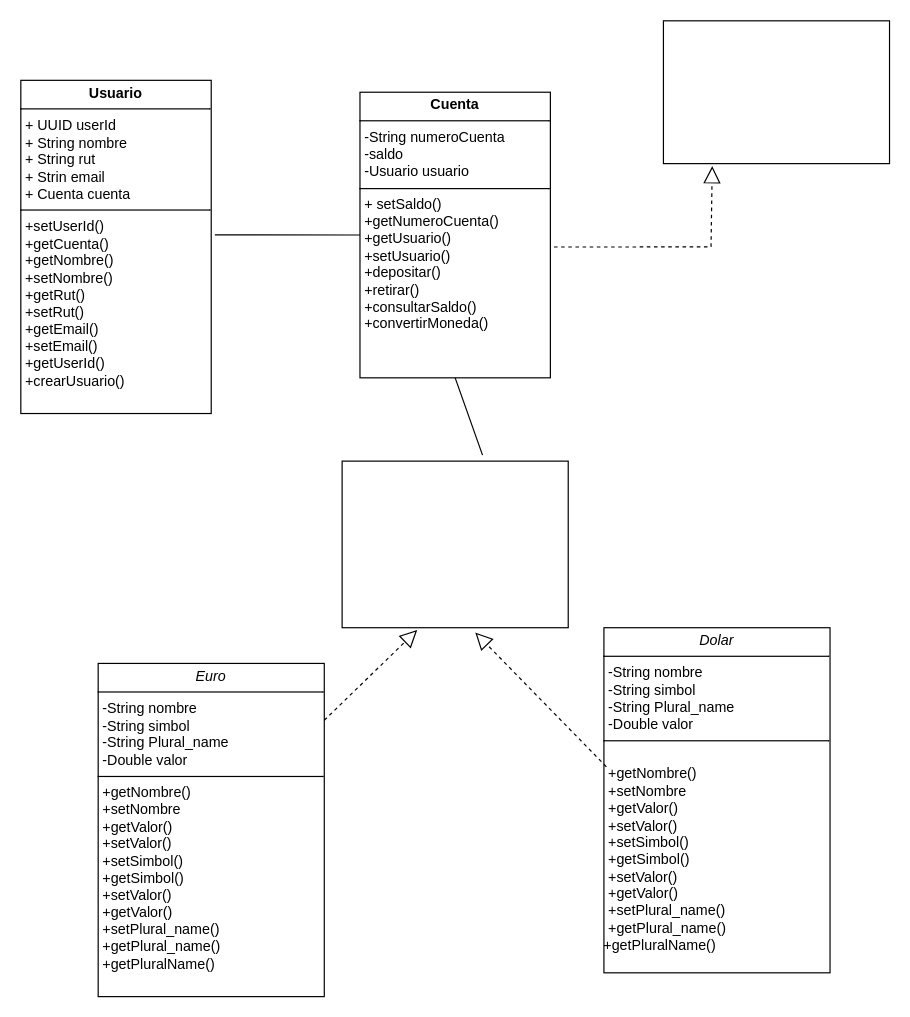
Some shapes in this 910 by 1017 pixel diagram are drawn without their labels. The box of each missing label's shape, as (x1, y1, x2, y2) in pixels:
<<Interface>> ICuenta retirar() consultaSaldo() depositar(): (662, 20, 890, 164)
<<Interface>> IMoneda getNombre() getValor() getSimbol() getPluralName(): (341, 460, 568, 628)
